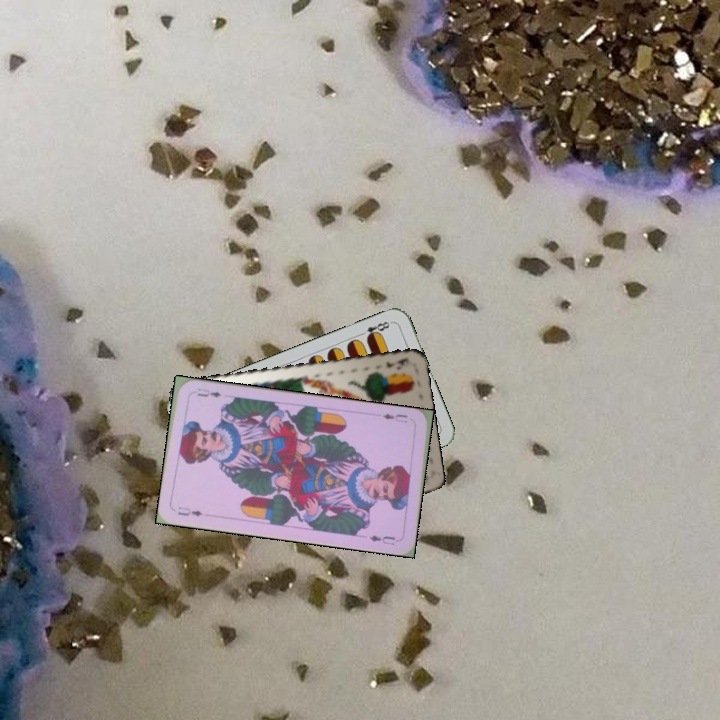E8: (355, 317, 395, 342)
EK: (383, 353, 410, 371)
EU: (174, 502, 205, 519), (378, 409, 410, 425)
